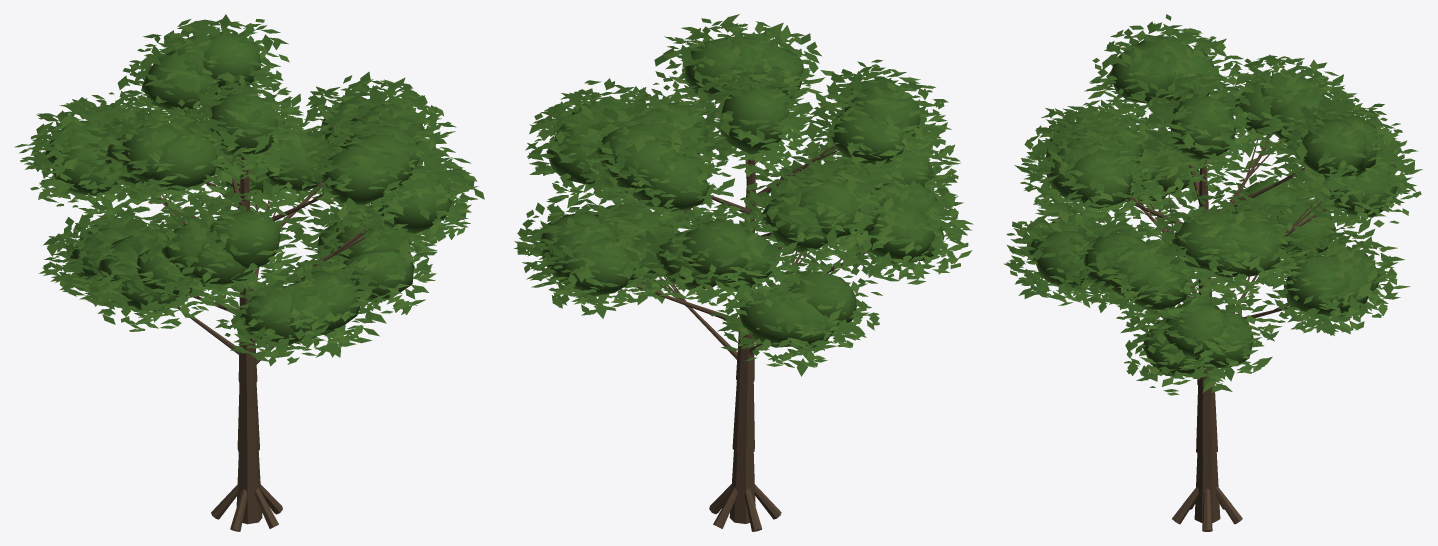
Rendered from oak.glb.
3 views of the same model, side by side, from view 1: azimuth 30°, elevation 25°; view 2: azimuth 150°, elevation 25°; view 3: azimuth 270°, elevation 25° (orthographic). The views are drawn at different scales.
Parts seen in each view (by area): view 1: oak; view 2: oak; view 3: oak.
Boxes of the visible parts, box(x1,y1,x2,y2) form: oak: box(14, 14, 484, 531); oak: box(514, 14, 973, 531); oak: box(1004, 14, 1422, 531).
Bounding box in the file's own units: 5.36 × 5.88 × 5.09.
